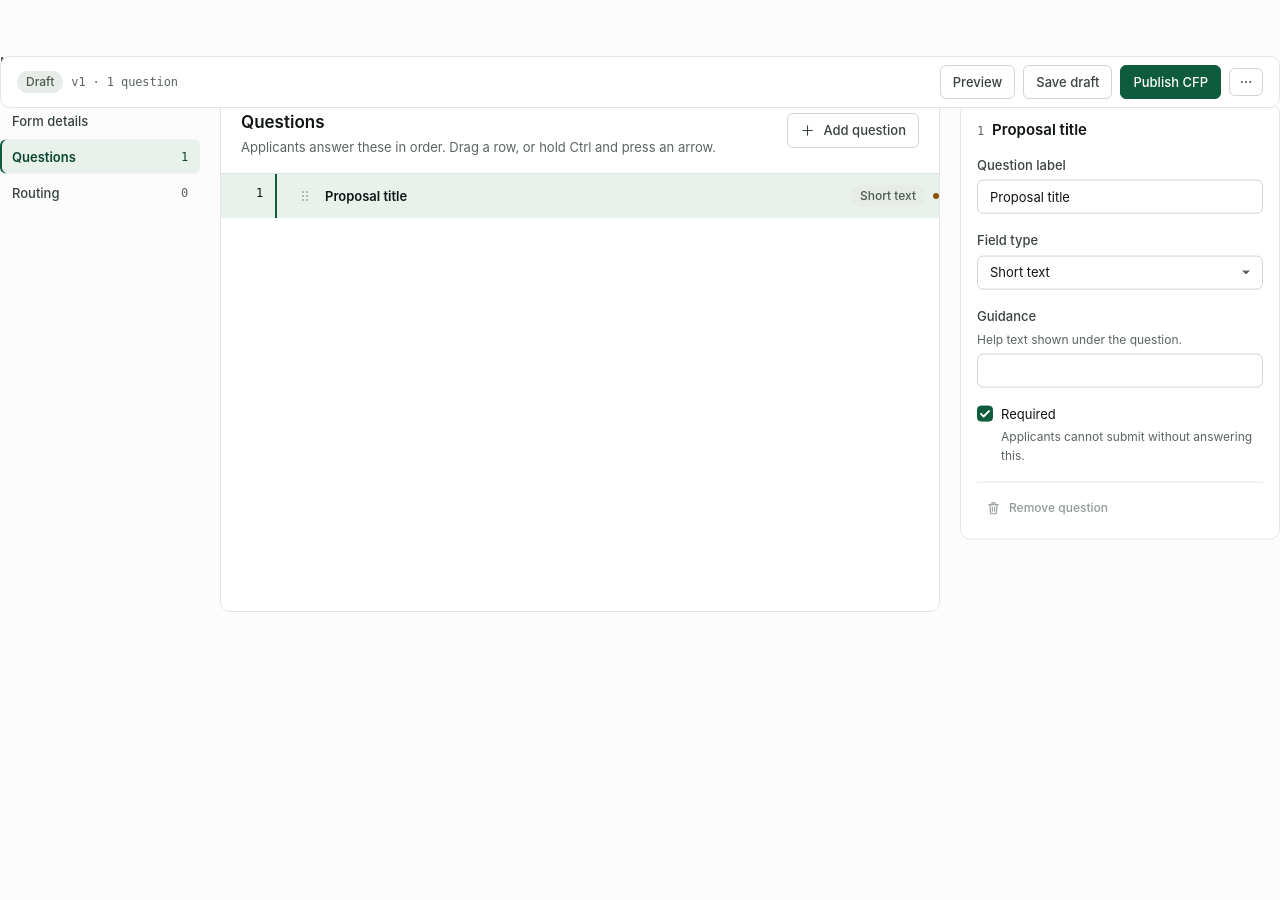
Scenario: building the question list › offers the four contract-backed types as named cards, and edits what it adds
Click the button "Add question": (853,130) [788,113,919,148]
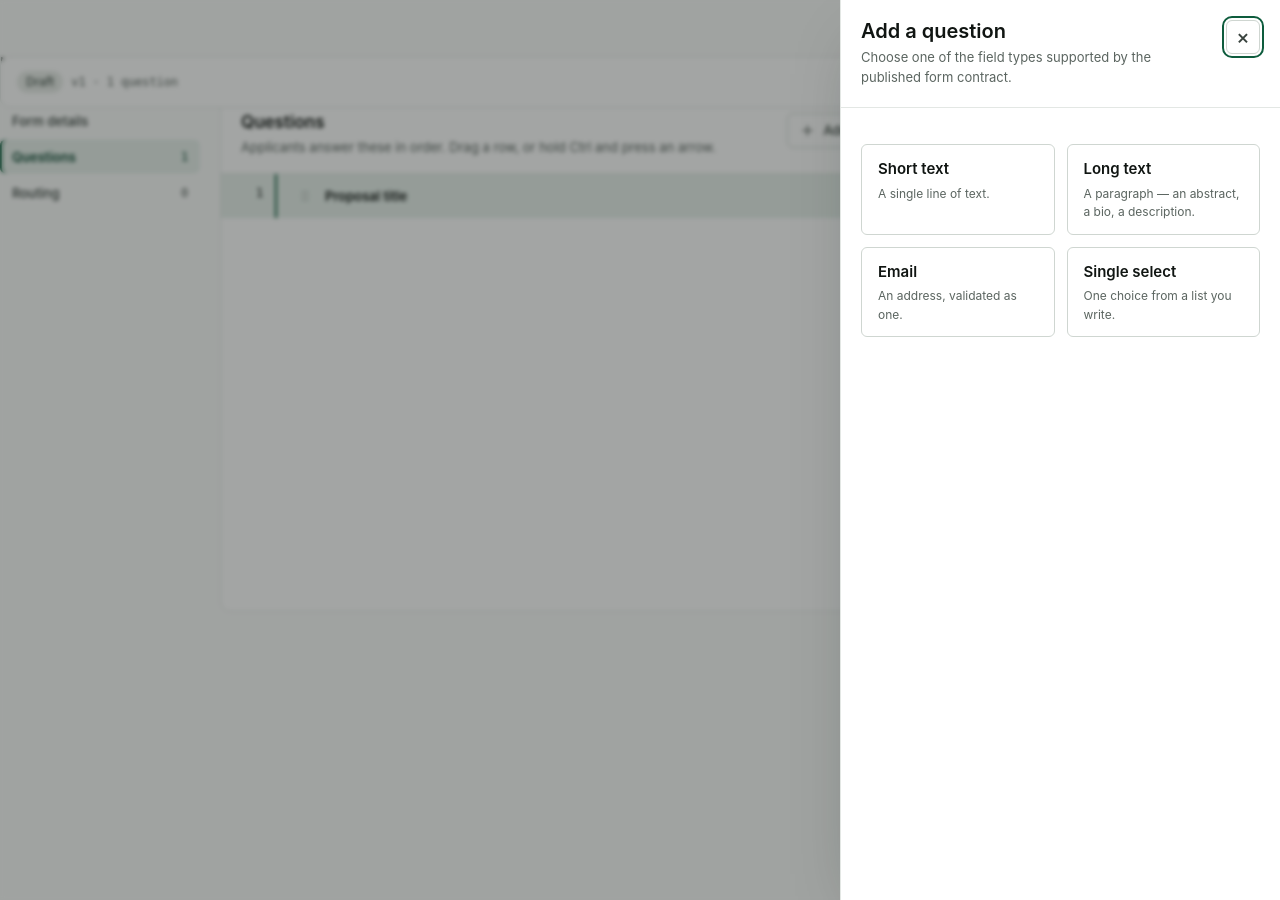
Expected: the button "Short text A single line of text." is shown, [861,144,1054,235]
Expected: the button "Long text A paragraph — an abstract, a bio, a description." is shown, [1066,144,1260,235]
Expected: the button "Email An address, validated as one." is shown, [861,247,1054,337]
Click the button "Single select One choice from a list you write.": (1163,292) [1066,247,1260,337]
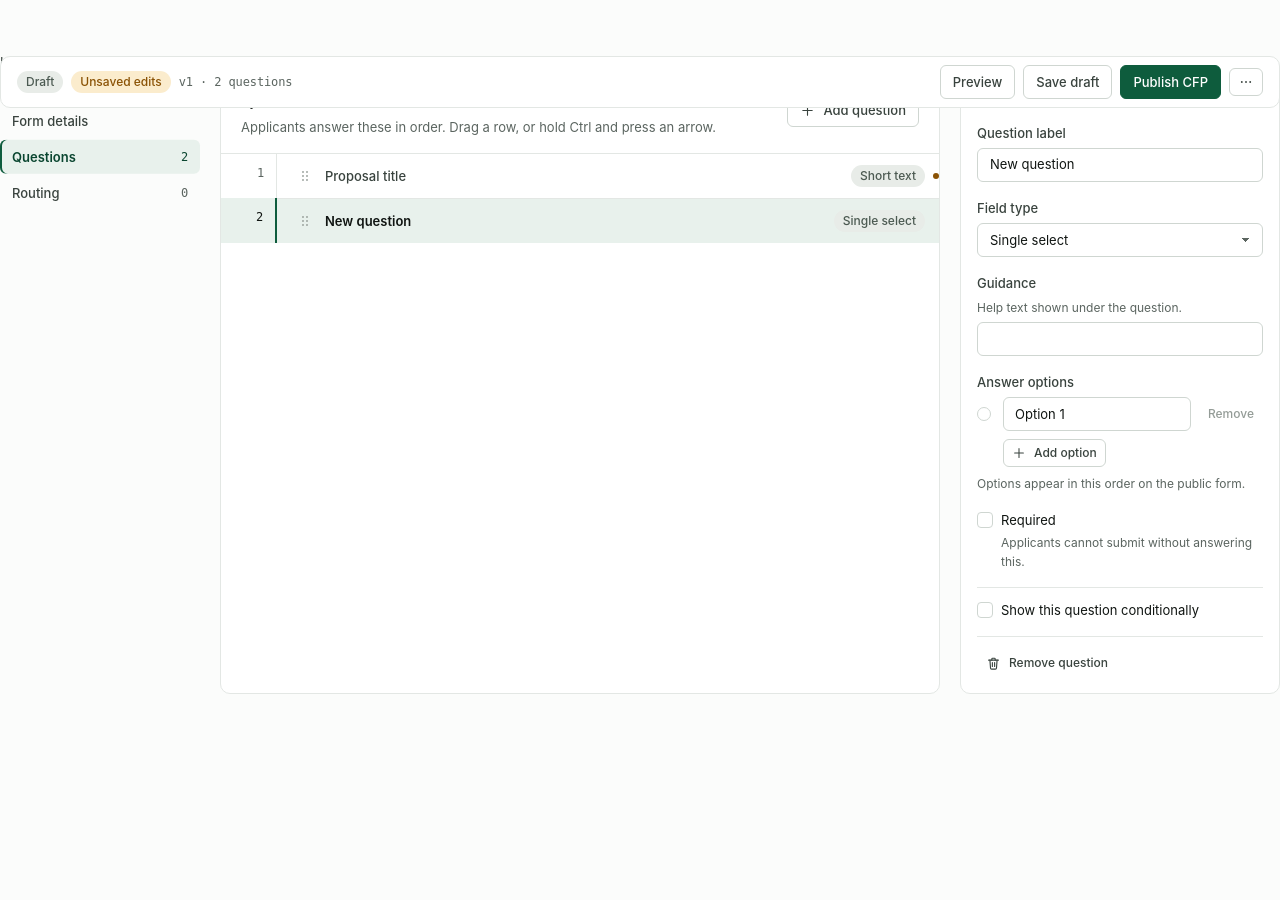
Expected: the heading "Add a question" is gone
Expected: the field showing "New question" is shown, [977,148,1263,182]
Expected: the dropdown labelled "Field type" shows "Single select", [977,223,1263,257]
